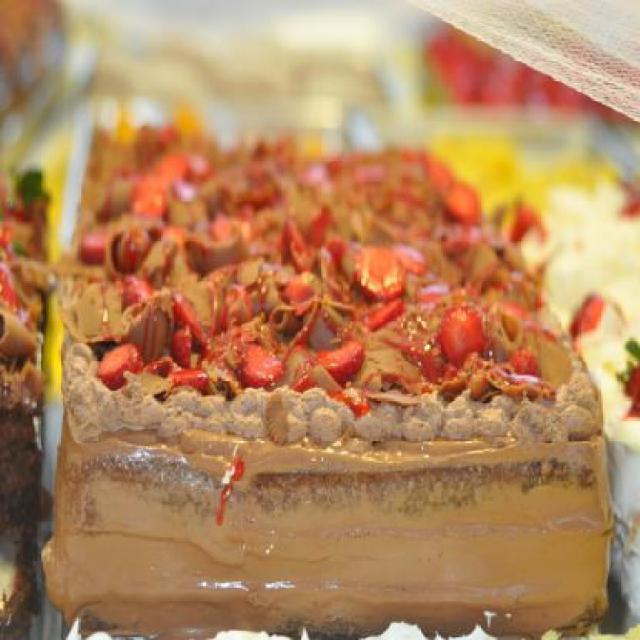Cake: (37, 121, 611, 638), (487, 175, 640, 606), (0, 176, 52, 511)
